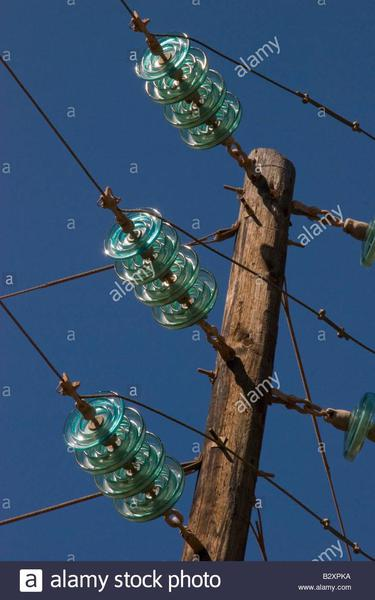isolator: (62, 389, 186, 523), (102, 206, 220, 331), (133, 30, 243, 151), (341, 391, 375, 467), (359, 213, 375, 270)
